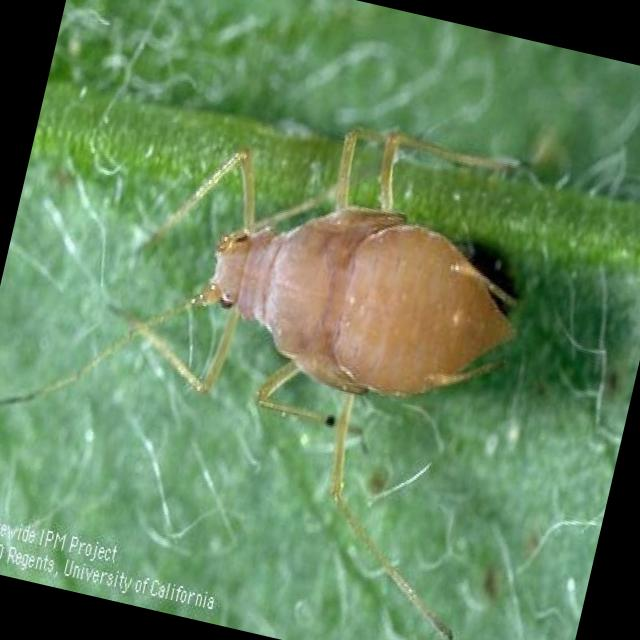aphid: (178, 143, 544, 462)
